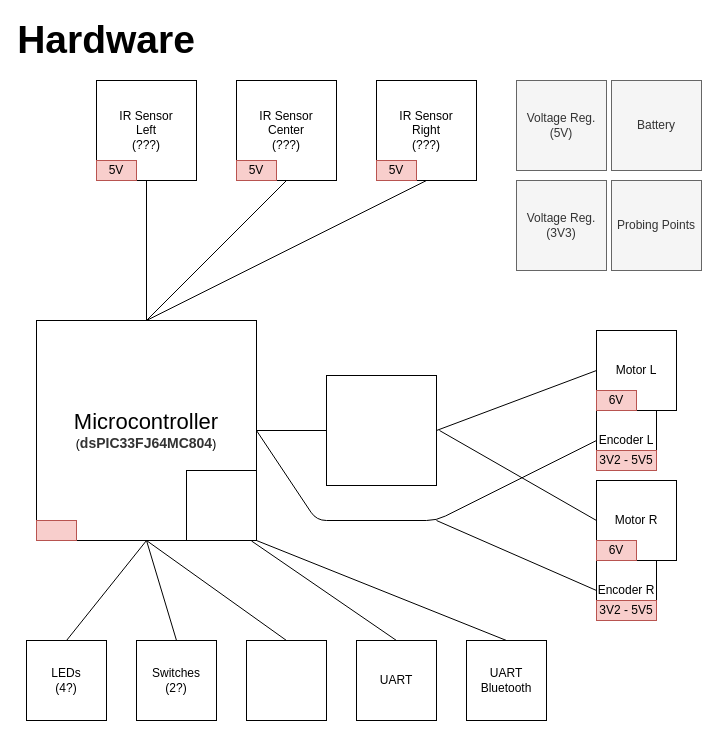
Image size: 719x738. Some labels were removed from this diagram. Each missing label, with the centre of its shape:
3V3: the point at 56,530
Dual H-Bridge: the point at 381,430
Pin Header: the point at 221,505
Programmer (6 Pins): the point at 286,680
